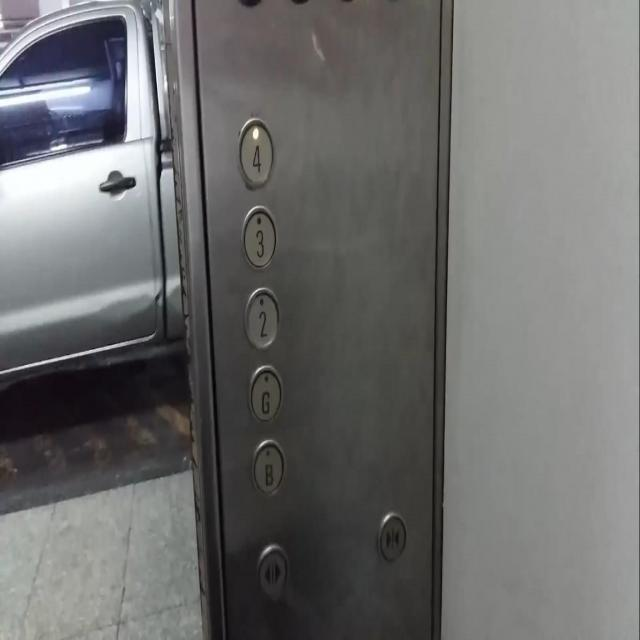2: (242, 282, 280, 352)
3: (239, 201, 277, 271)
4: (234, 112, 275, 193)
B: (250, 435, 286, 497)
G: (246, 359, 283, 425)
close: (376, 507, 406, 565)
open: (255, 539, 289, 597)
